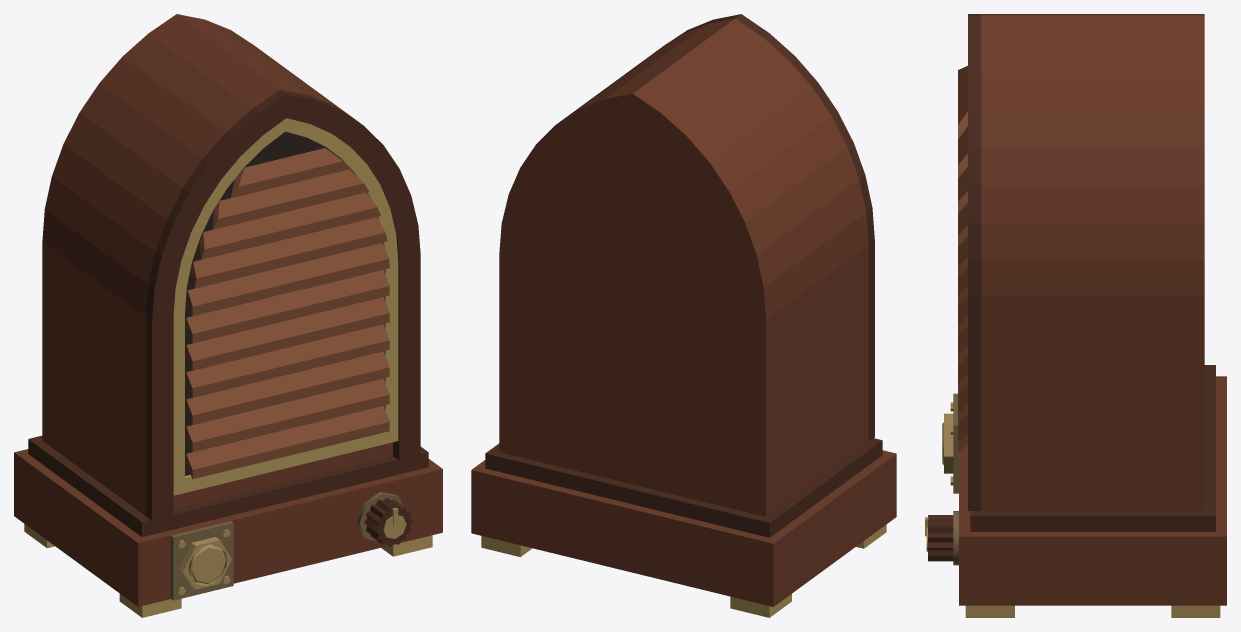
Rendered from AA-small.glb.
3 views of the same model, side by side, from view 1: azimuth 30°, elevation 25°; view 2: azimuth 150°, elevation 25°; view 3: azimuth 270°, elevation 25° (orthographic). The views are drawn at different scales.
Visible parts, largest first — view 1: Arched cabinet, Mahogany louvre slats, Plinth, Arch moulding, Brass arch frame, Plinth top moulding, Speaker grille cloth, Brass sill, Power — panel plate, Volume — knob, Power — button, Power — hex collar (+2 smaller); view 2: Arched cabinet, Plinth, Plinth top moulding, Arch moulding, Brass foot 3, Brass foot 4; view 3: Arched cabinet, Plinth, Arch moulding, Plinth top moulding, Mahogany louvre slats, Volume — knob, Brass foot 2, Brass foot 4, Power — hex collar, Power — panel plate.
Part boxes in pixels (left/top/right/bottom): Arched cabinet: left=42, top=14, right=392, bottom=515; Mahogany louvre slats: left=186, top=148, right=389, bottom=479; Plinth: left=14, top=449, right=442, bottom=606; Arch moulding: left=146, top=89, right=420, bottom=520; Brass arch frame: left=173, top=118, right=398, bottom=495; Plinth top moulding: left=28, top=435, right=428, bottom=537; Speaker grille cloth: left=185, top=131, right=383, bottom=475; Brass sill: left=174, top=432, right=385, bottom=495; Power — panel plate: left=170, top=521, right=233, bottom=600; Volume — knob: left=364, top=498, right=412, bottom=546; Power — button: left=188, top=544, right=226, bottom=583; Power — hex collar: left=179, top=537, right=231, bottom=589; Arched cabinet: left=499, top=18, right=868, bottom=516; Plinth: left=471, top=450, right=896, bottom=606; Plinth top moulding: left=485, top=438, right=882, bottom=537; Arch moulding: left=661, top=14, right=874, bottom=441; Brass foot 3: left=730, top=594, right=791, bottom=617; Brass foot 4: left=481, top=536, right=531, bottom=556; Arched cabinet: left=981, top=14, right=1204, bottom=510; Plinth: left=959, top=376, right=1226, bottom=605; Arch moulding: left=968, top=14, right=981, bottom=510; Plinth top moulding: left=970, top=365, right=1215, bottom=531; Mahogany louvre slats: left=958, top=65, right=967, bottom=452; Volume — knob: left=928, top=515, right=953, bottom=561; Brass foot 2: left=965, top=605, right=1014, bottom=617; Brass foot 4: left=1171, top=605, right=1220, bottom=617; Power — hex collar: left=944, top=413, right=953, bottom=473; Power — panel plate: left=953, top=393, right=958, bottom=493.
Size of the model in its own units: 0.17 by 0.26 by 0.1353.
